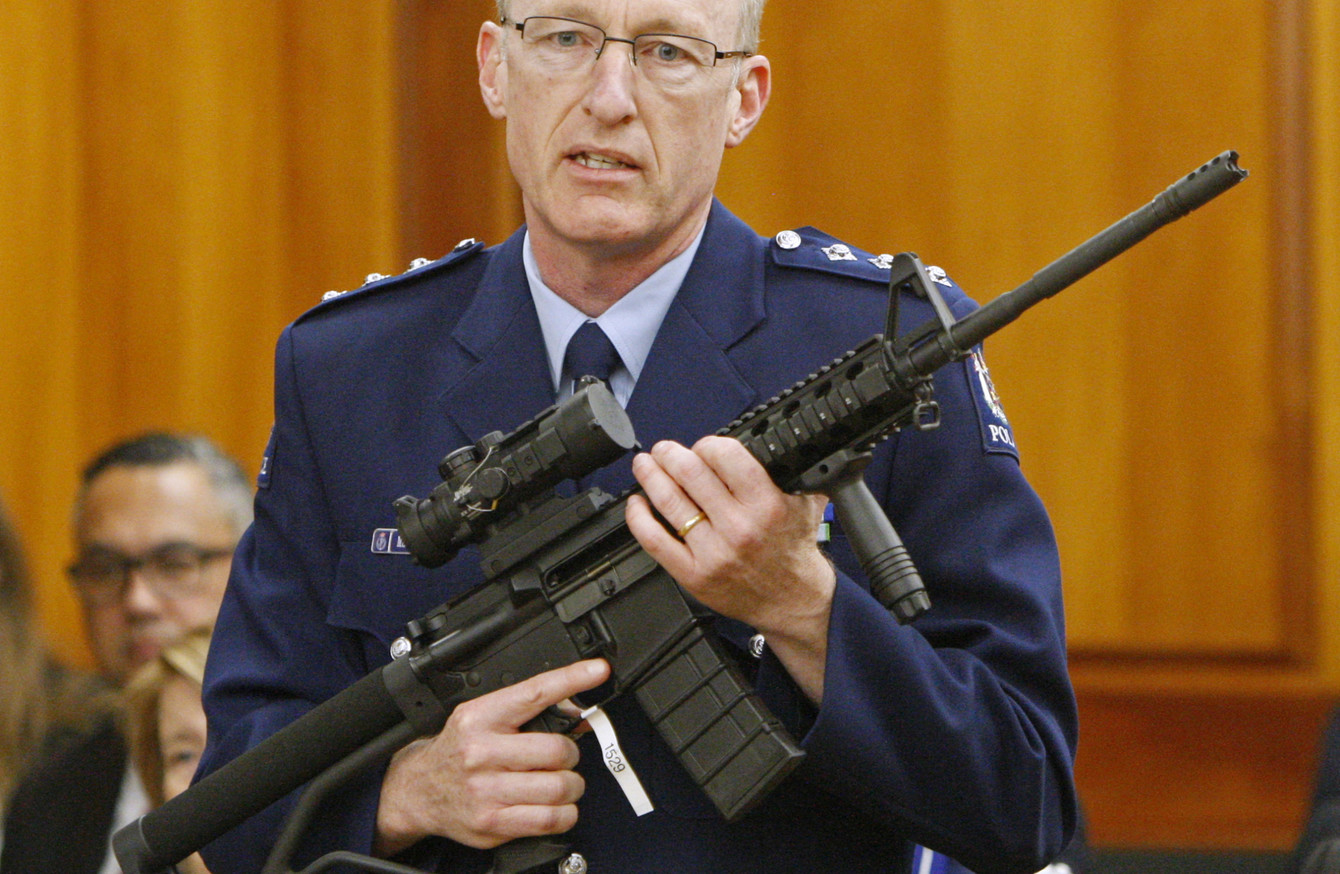gun: (108, 144, 1254, 874)
